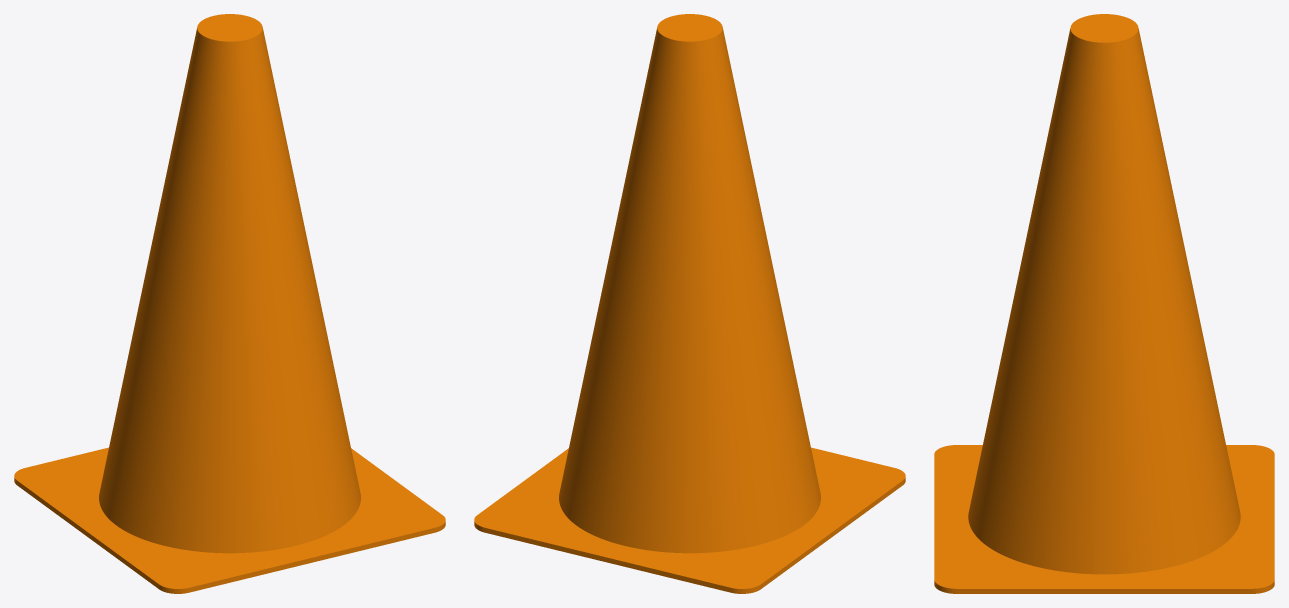
Rendered from TrafficCone.dae.
The picture shows the model from 3 angles, left to right: view 1: azimuth 30°, elevation 25°; view 2: azimuth 150°, elevation 25°; view 3: azimuth 270°, elevation 25°; orthographic projection. The views are drawn at different scales.
Parts seen in each view (by area): view 1: 5e47b5530f39ba15b377c711; view 2: 5e47b5530f39ba15b377c711; view 3: 5e47b5530f39ba15b377c711.
Part boxes in pixels (x1,y1,x2,y2): 5e47b5530f39ba15b377c711: (14,14,445,593); 5e47b5530f39ba15b377c711: (474,14,905,593); 5e47b5530f39ba15b377c711: (934,14,1274,593).
Bounding box in the file's own units: 0.1905 × 0.1905 × 0.3048.
